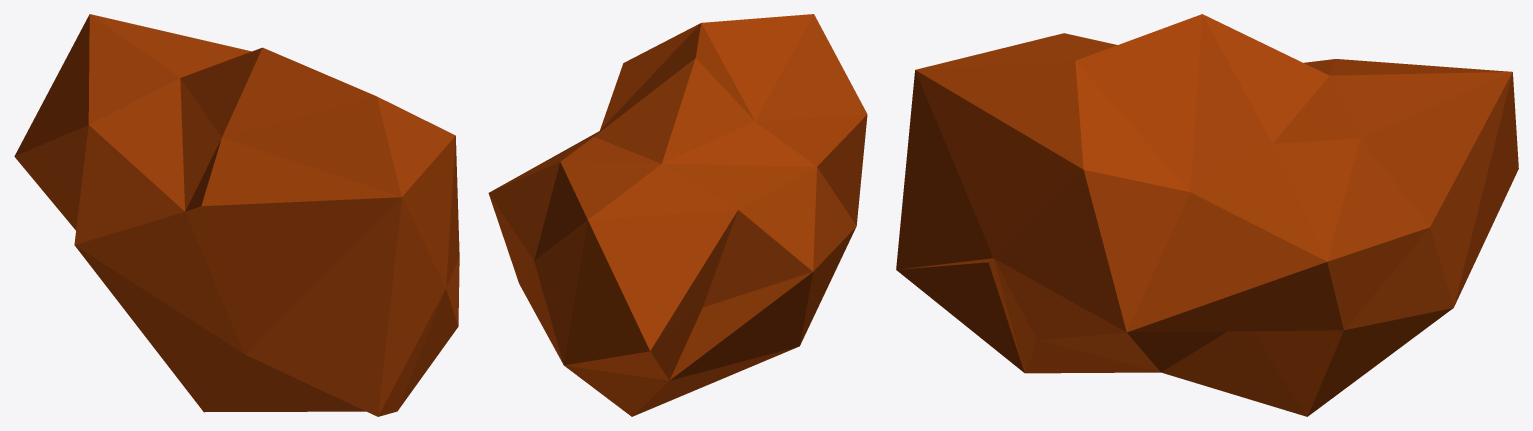
File: RockSmall2.fbx
3 renders of one model, left to right at view 1: azimuth 30°, elevation 25°; view 2: azimuth 150°, elevation 25°; view 3: azimuth 270°, elevation 25°, orthographic. The views are drawn at different scales.
Parts seen in each view (by area): view 1: Cube; view 2: Cube; view 3: Cube.
Part boxes in pixels (x1,y1,x2,y2): Cube: (14,14,459,416); Cube: (488,14,867,416); Cube: (896,14,1518,416).
Size of the model in its own units: 10.82 by 11.52 by 16.59.
